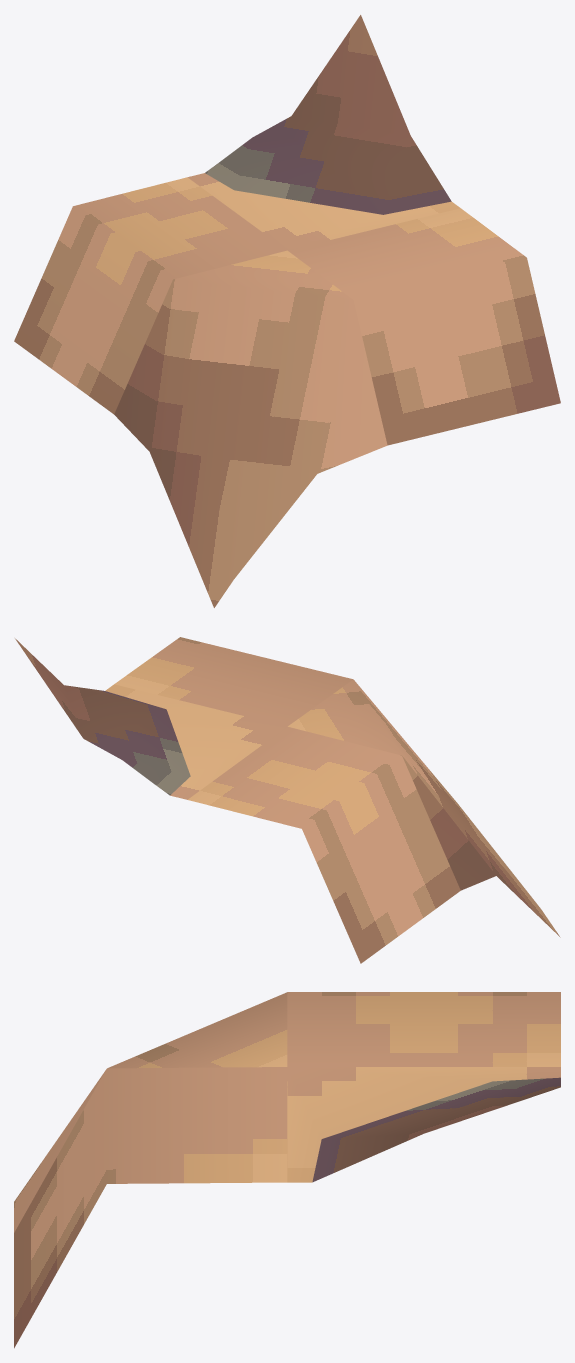
3 views of the same model, one above another, from view 1: azimuth 30°, elevation 25°; view 2: azimuth 150°, elevation 25°; view 3: azimuth 270°, elevation 25° (orthographic). The views are drawn at different scales.
Bounding box in the file's own units: 1 × 1 × 1.
2 materials, 2 textured.
